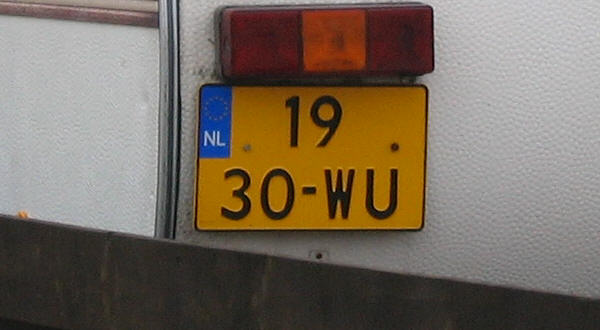license_plate: (194, 82, 430, 232)
